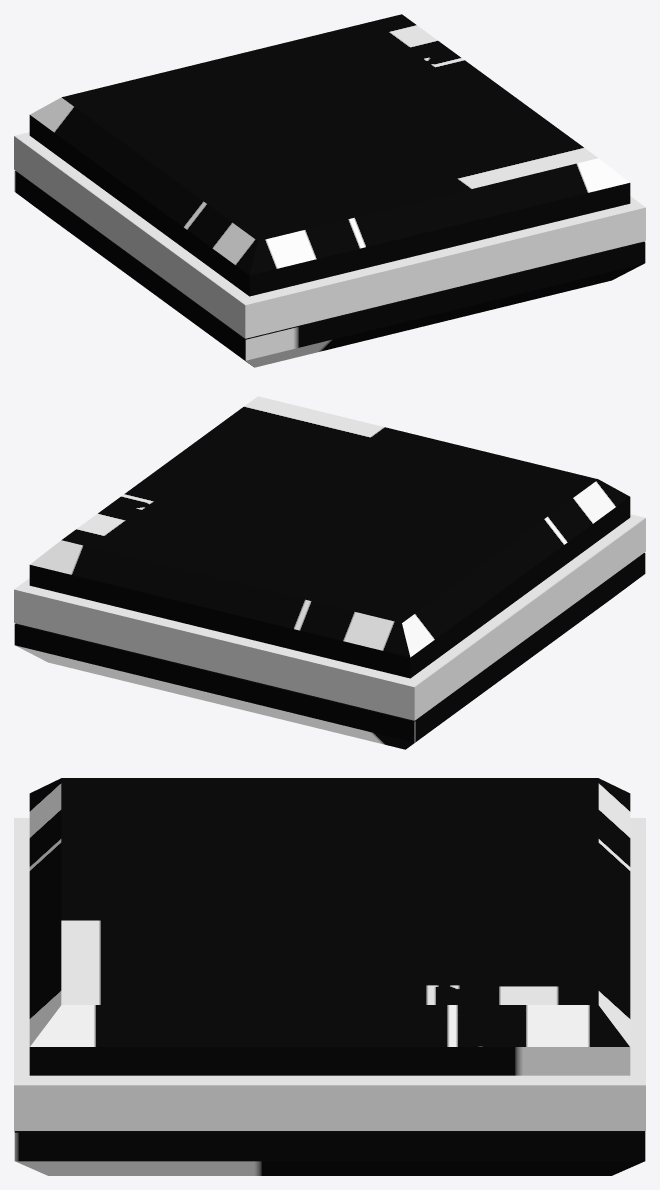
File: Tile.fbx
3 renders of one model, top to bottom at view 1: azimuth 30°, elevation 25°; view 2: azimuth 150°, elevation 25°; view 3: azimuth 270°, elevation 25°, orthographic. The views are drawn at different scales.
Visible parts, largest first — view 1: Tile; view 2: Tile; view 3: Tile.
Boxes of the visible parts, box(x1,y1,x2,y2) form: Tile: box(14, 14, 645, 367); Tile: box(14, 396, 645, 749); Tile: box(14, 778, 645, 1175).
Size of the model in its own units: 100 by 28.81 by 100.
